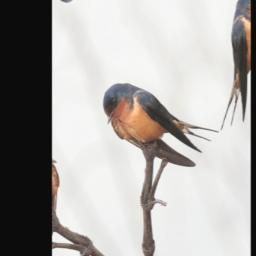Swallow: (95, 36, 224, 205)
